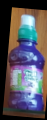blueberries: (8, 14, 45, 112)
